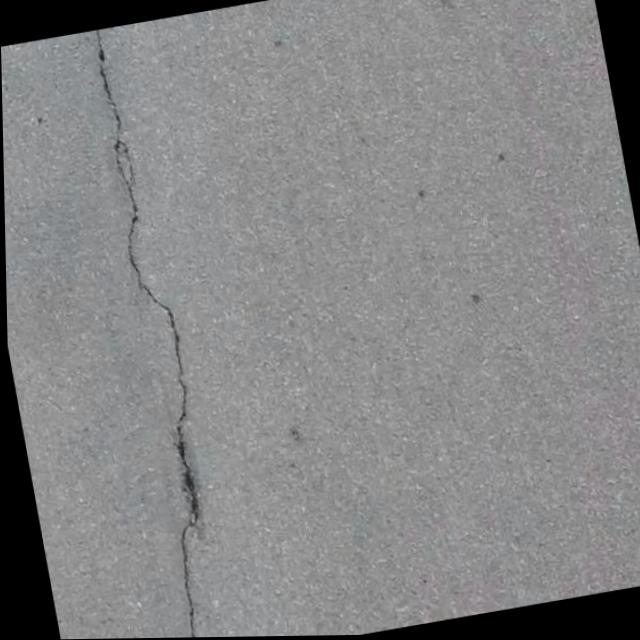Crack: (49, 33, 249, 639)
